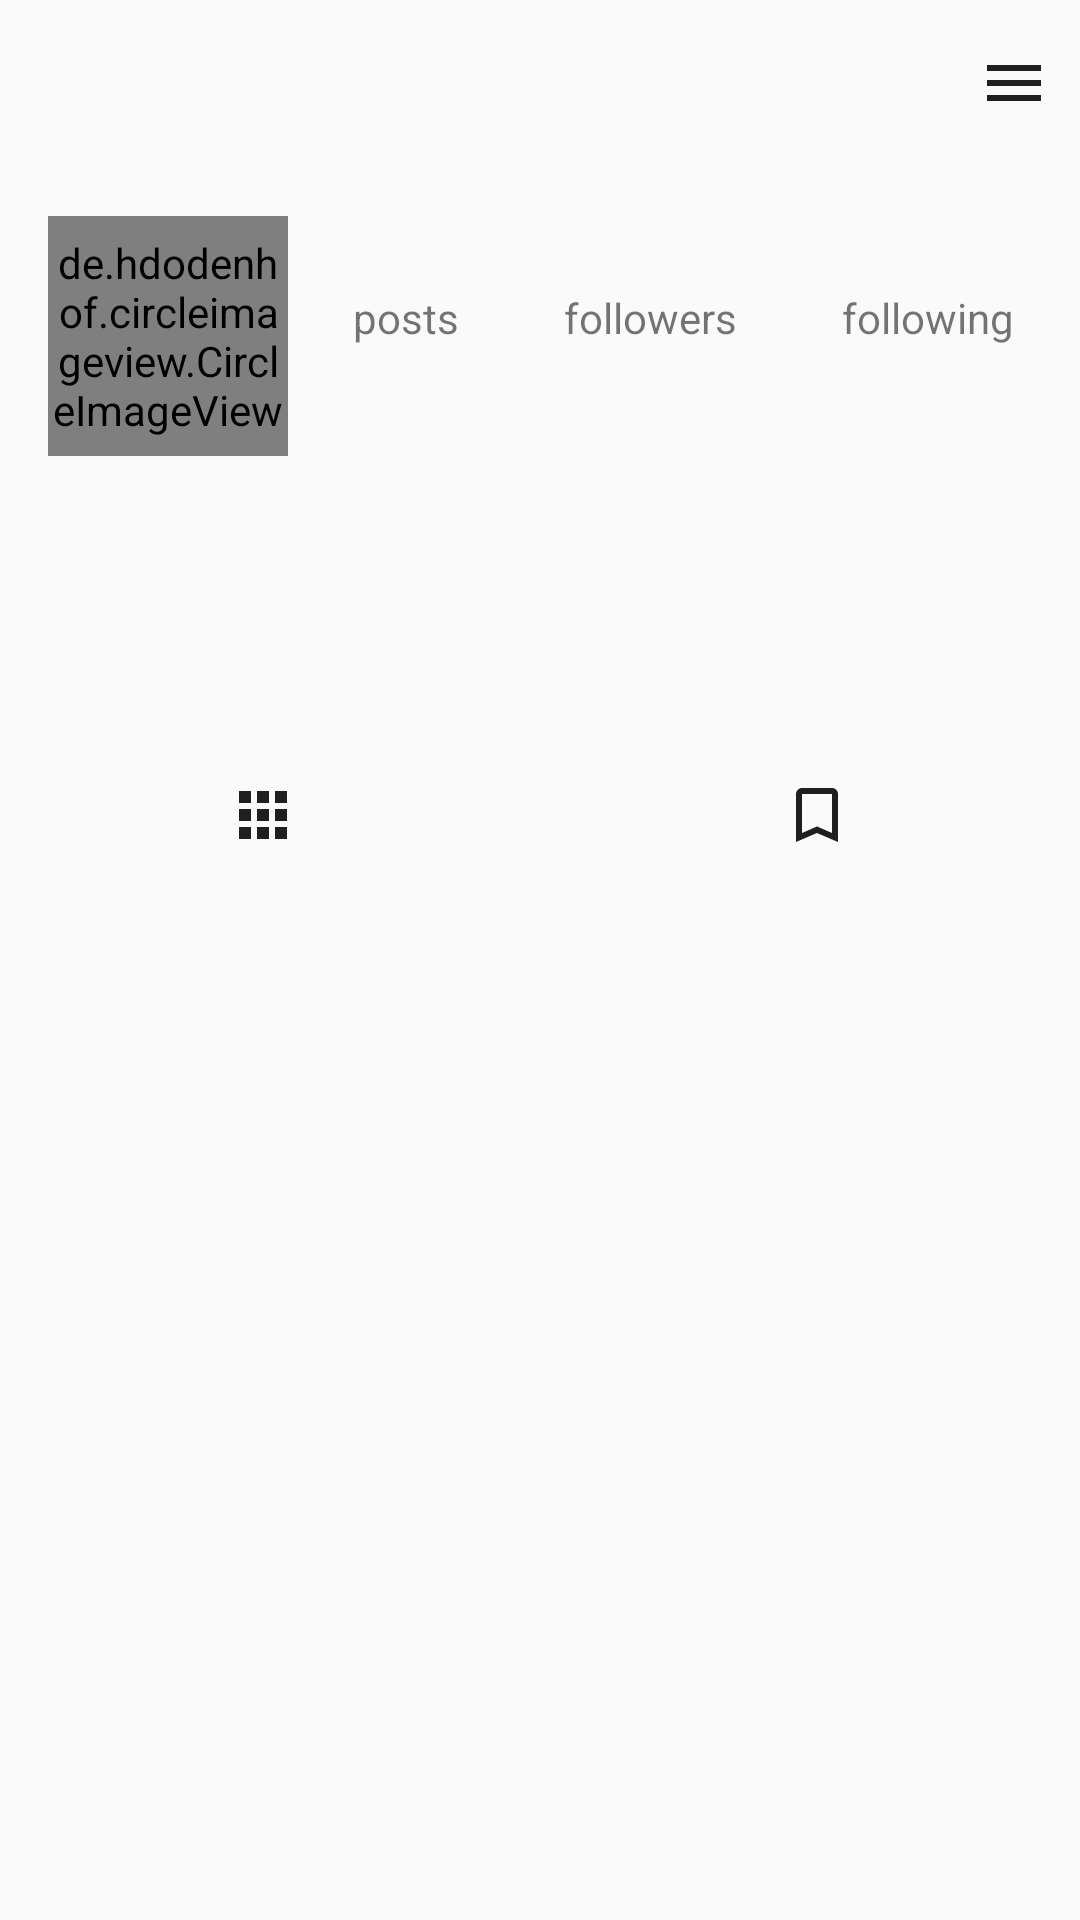

Where to tap for icons on this 1080 × 1920 app screen, as point (x, y):
apps: point (263, 815)
menu: point (1014, 83)
save: point (817, 815)
